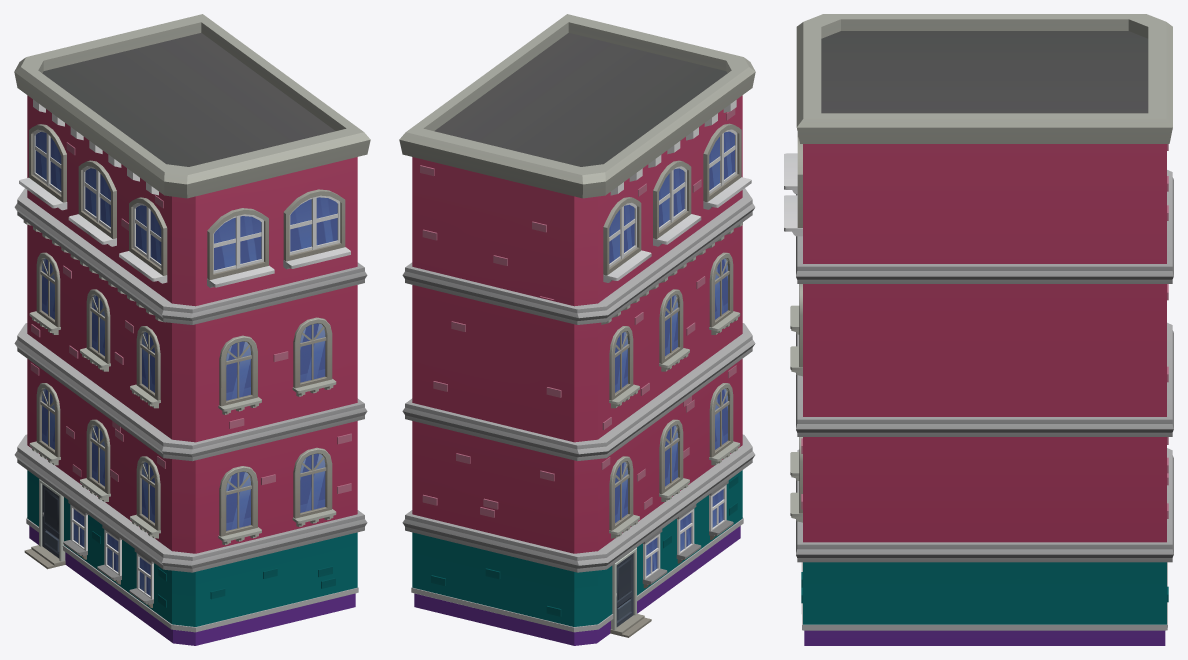
The model's file is Building_18_2_D.glb.
3 views of the same model, side by side, from view 1: azimuth 30°, elevation 25°; view 2: azimuth 150°, elevation 25°; view 3: azimuth 270°, elevation 25° (orthographic). The views are drawn at different scales.
Visible parts, largest first — view 1: Building_18_2_D; view 2: Building_18_2_D; view 3: Building_18_2_D.
Part boxes in pixels (<box>): Building_18_2_D: <box>14,14,370,645</box>; Building_18_2_D: <box>399,14,755,645</box>; Building_18_2_D: <box>784,14,1173,645</box>.
Bounding box in the file's own units: 7.19 × 15.94 × 10.59.
Materials: 3 (3 with a texture image).
